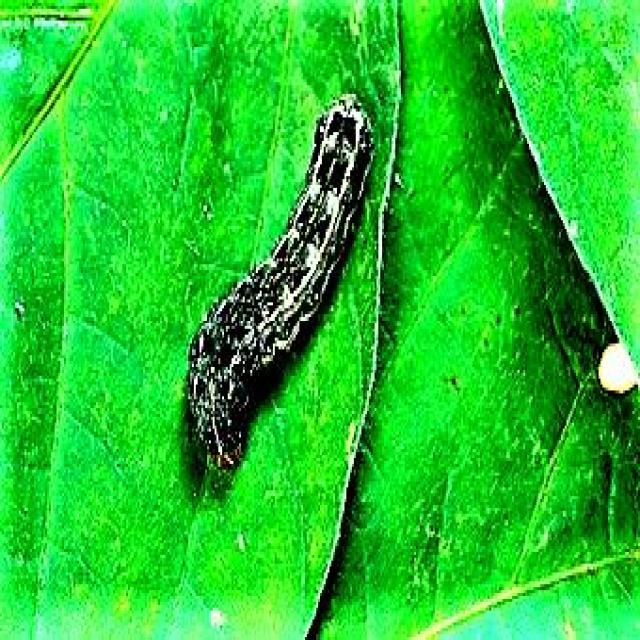armyworm: (182, 91, 376, 476)
